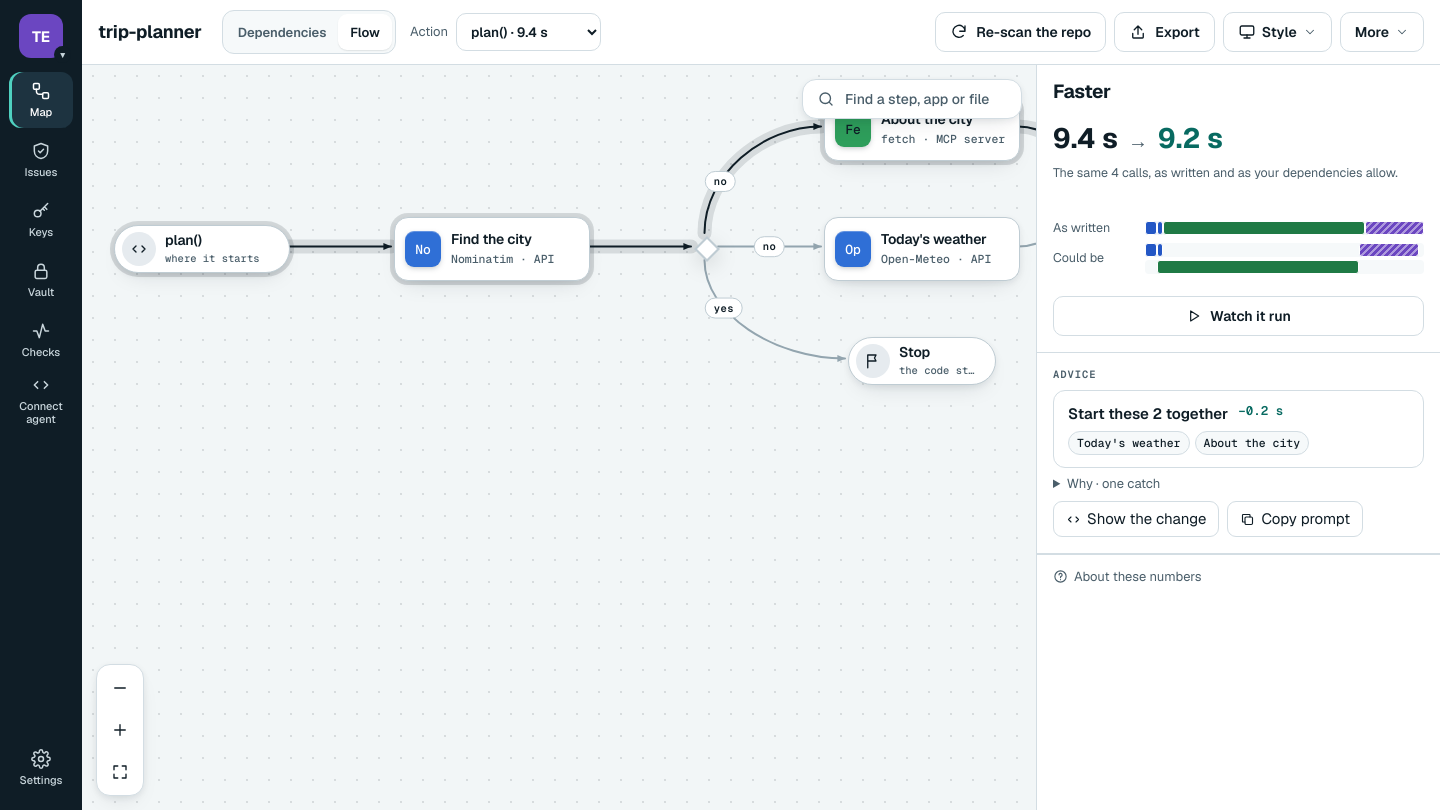
Test: with several actions, the flow shows one at a time, the slowest first (D33)
Check: the 1st text "About the city" is shown, box [881,110,973,128]
Check: the text "Extra call" is not shown
Step 1. Select "other() · 300 ms" in the dropdown labelled "Action" → (528, 32), box [456,13,601,51]
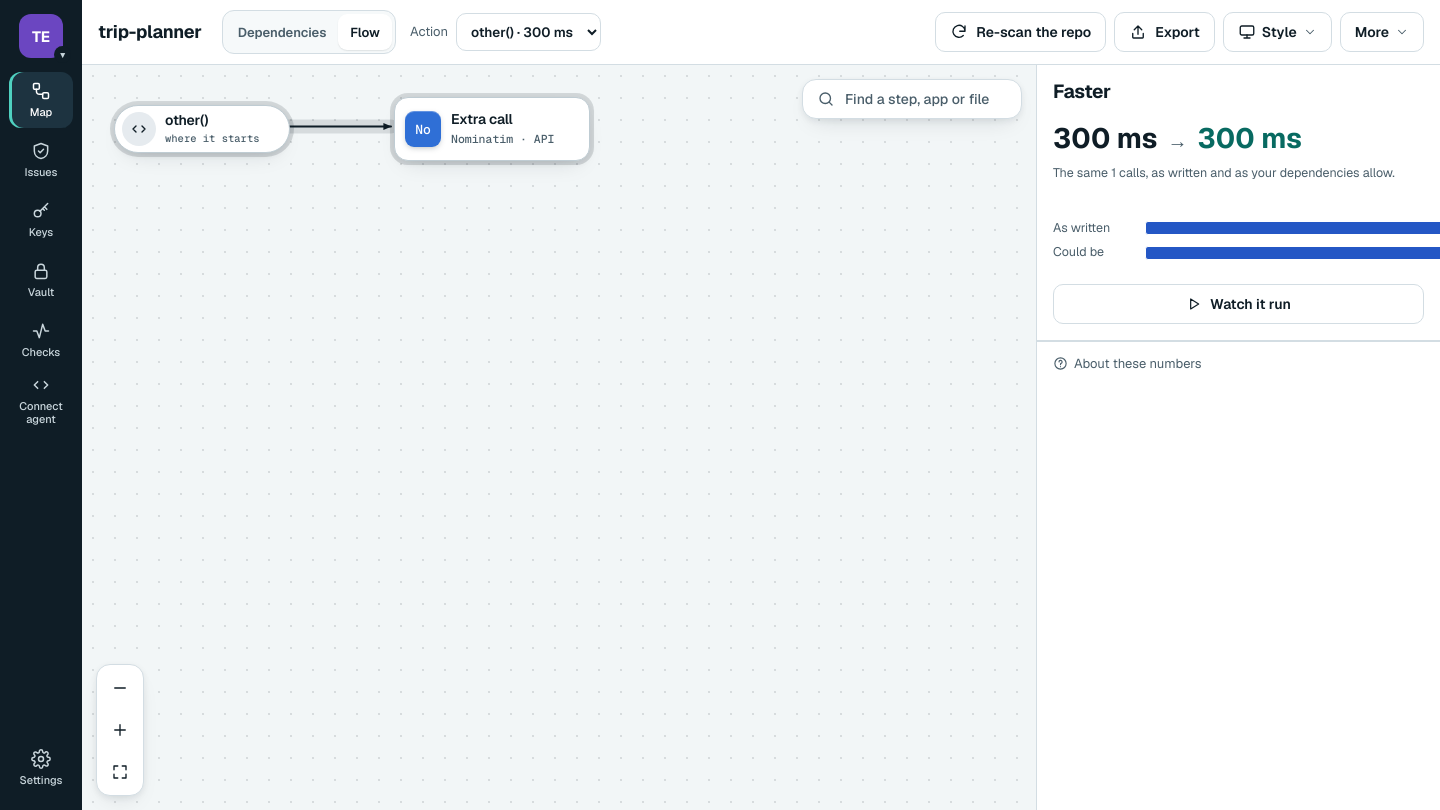
Check: the text "Extra call" is shown, box [451,110,513,128]
Check: the text "About the city" is gone
Check: the 1st text "300 ms" is shown, box [1053,124,1158,152]
